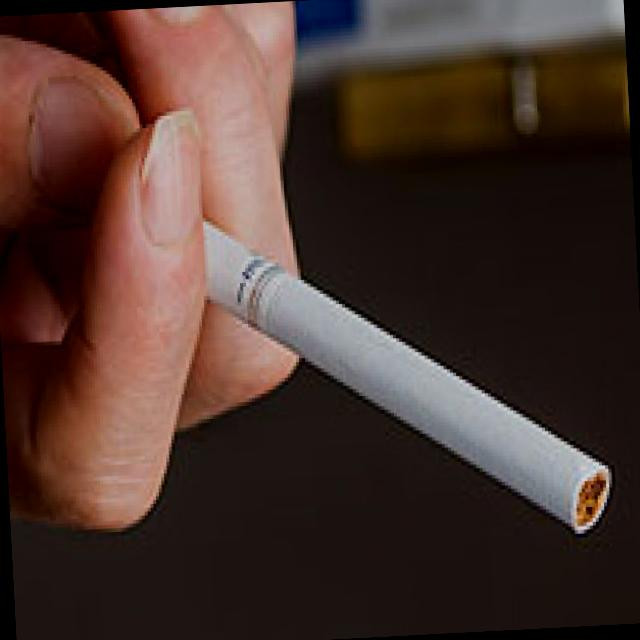smoke: (145, 184, 622, 576)
